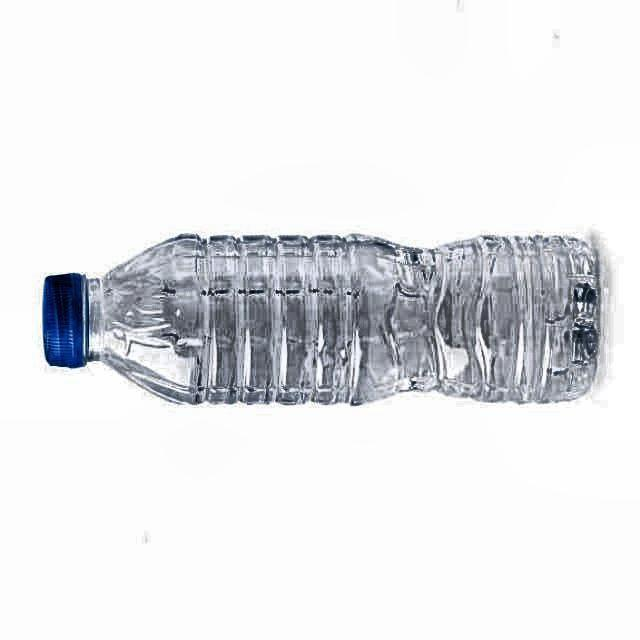plastic: (44, 235, 599, 404)
